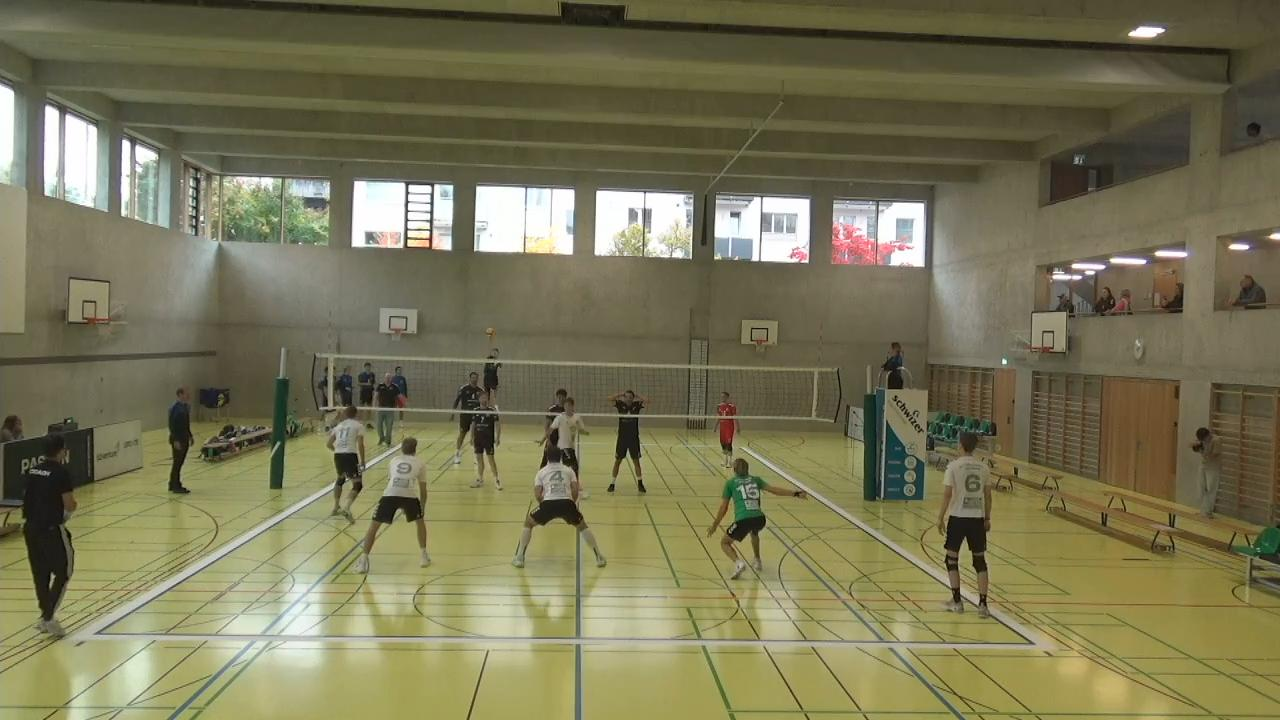battuta: (481, 332, 505, 416)
